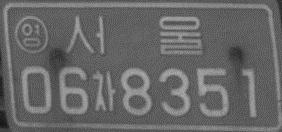0: (20, 65, 53, 115)
1: (236, 68, 266, 118)
3: (158, 66, 191, 117)
5: (195, 66, 229, 119)
6: (57, 65, 89, 116)
8: (120, 66, 152, 116)
서울_D: (63, 15, 204, 56)
영: (13, 14, 49, 54)
차: (91, 69, 117, 112)
